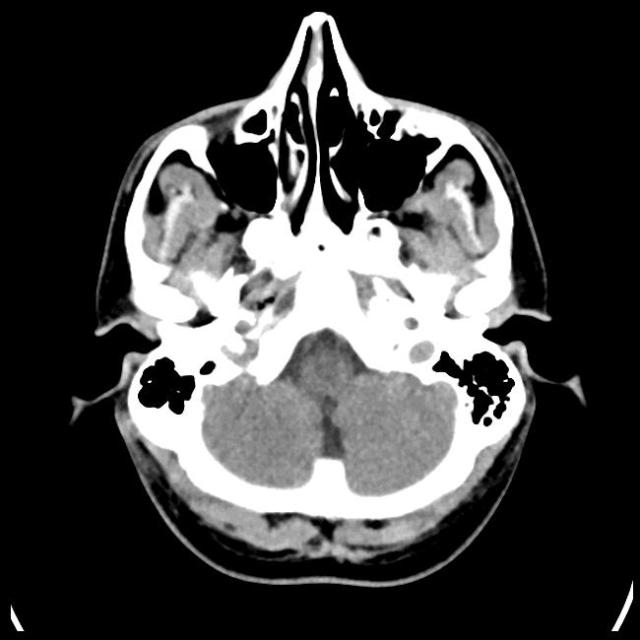lesion: (72, 12, 579, 589)
